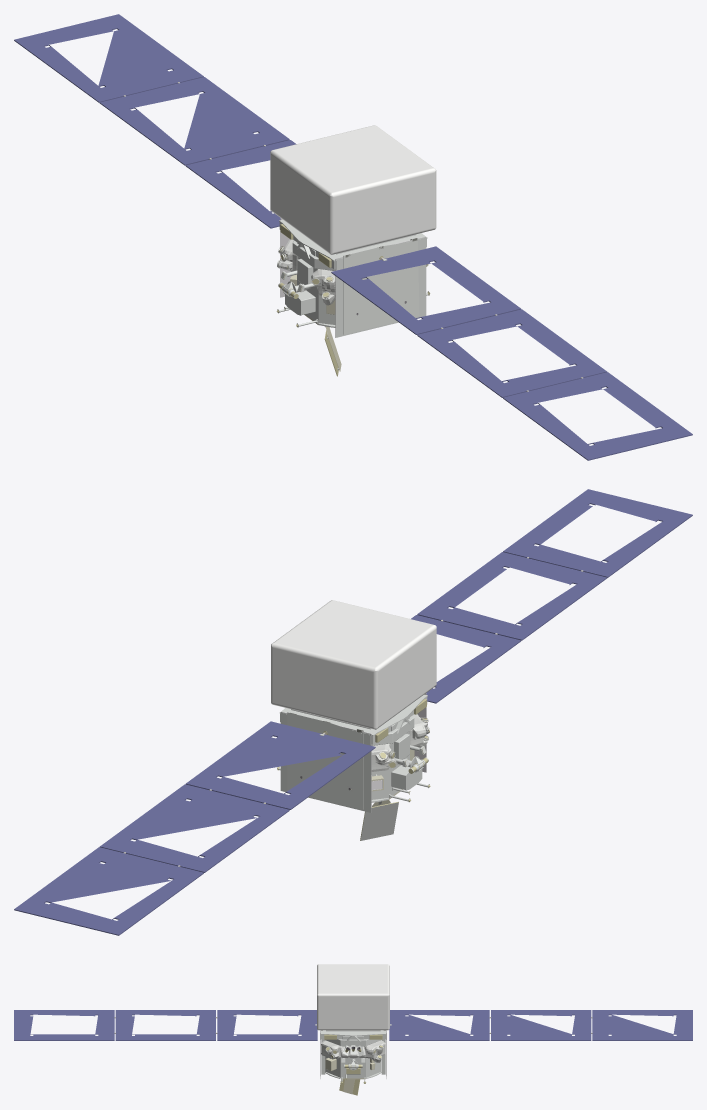
File: fermi.glb
3 views of the same model, one above another, from view 1: azimuth 30°, elevation 25°; view 2: azimuth 150°, elevation 25°; view 3: azimuth 270°, elevation 25° (orthographic). The views are drawn at different scales.
Parts seen in each view (by area): view 1: Layer_0; view 2: Layer_0; view 3: Layer_0.
Boxes of the visible parts, bbox=[...] form: Layer_0: bbox=[14, 14, 692, 460]; Layer_0: bbox=[14, 489, 692, 935]; Layer_0: bbox=[14, 964, 692, 1095].
Bounding box in the file's own units: 8.54 × 12.09 × 62.31.
1 material, 1 textured.
